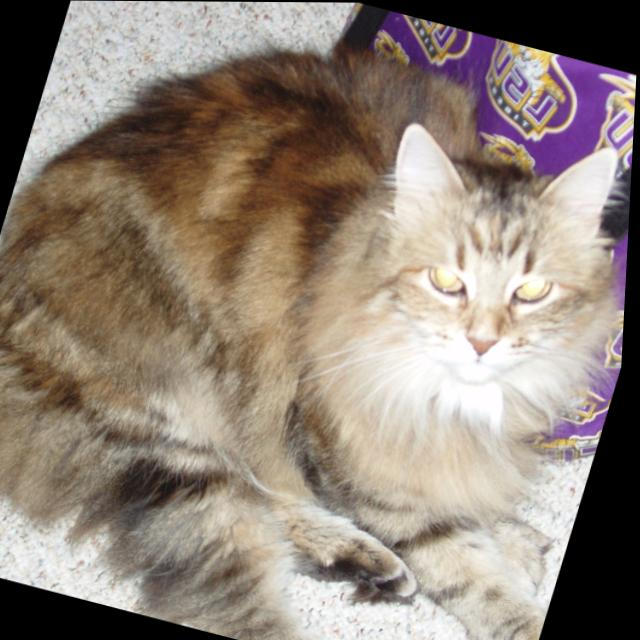animals: (357, 100, 624, 372)
